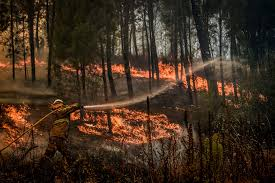fire: (59, 61, 236, 93), (88, 109, 171, 146)
smoke: (209, 54, 248, 78)
